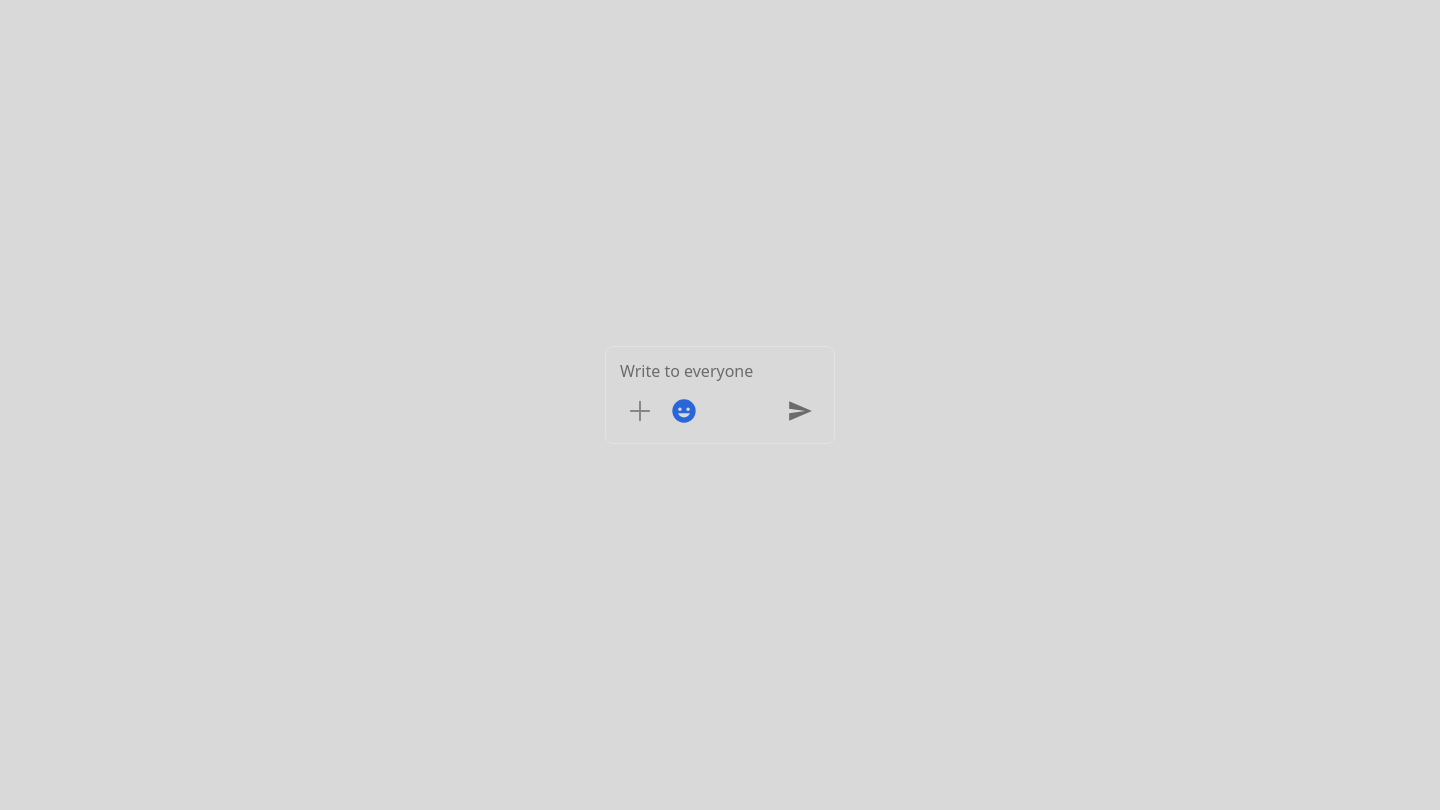
Test case: emoji picker › the picker is keyboard operable and holds a single tab stop
Click the button named "Choose emoji" at [684, 411], box [664,391,704,431]
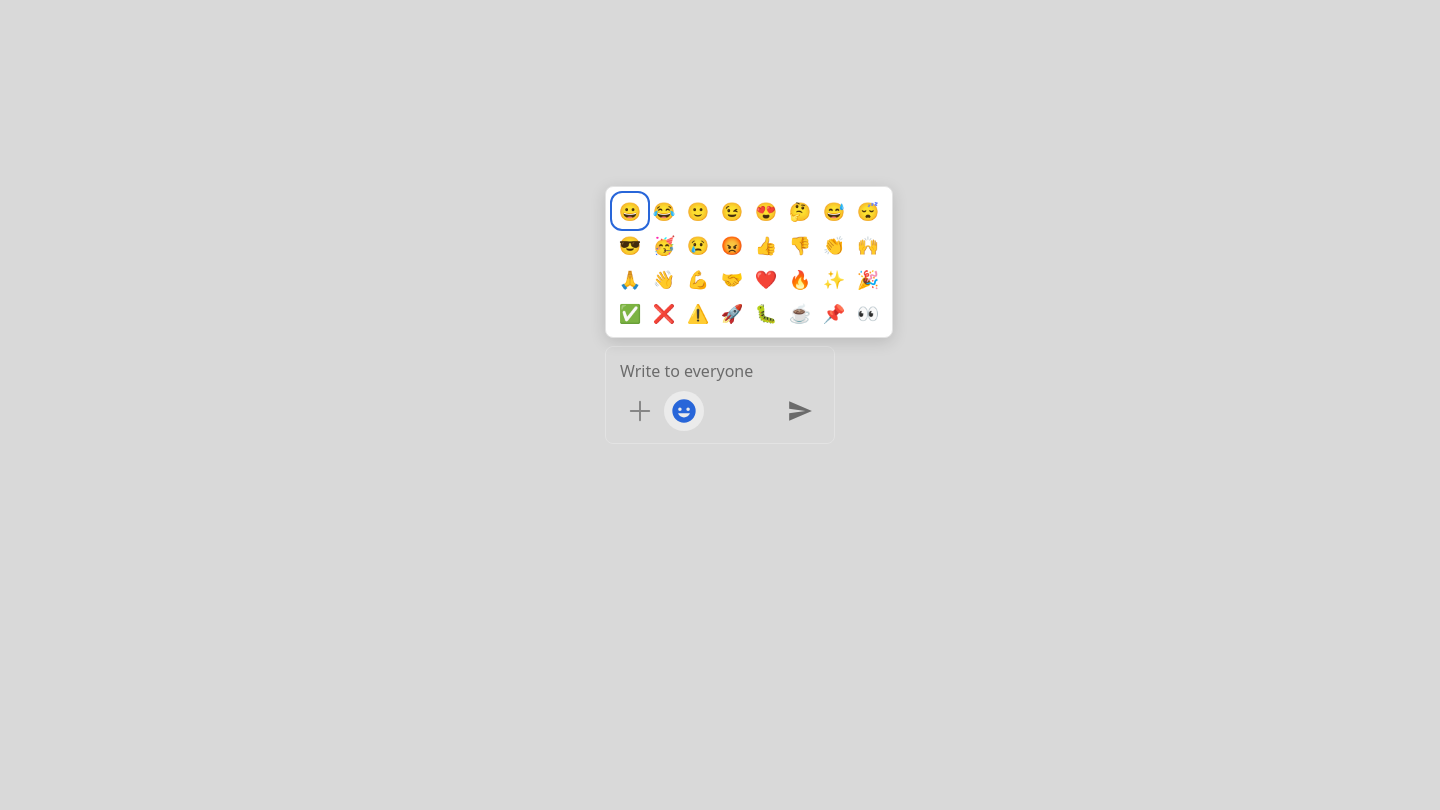
Press Arrowright
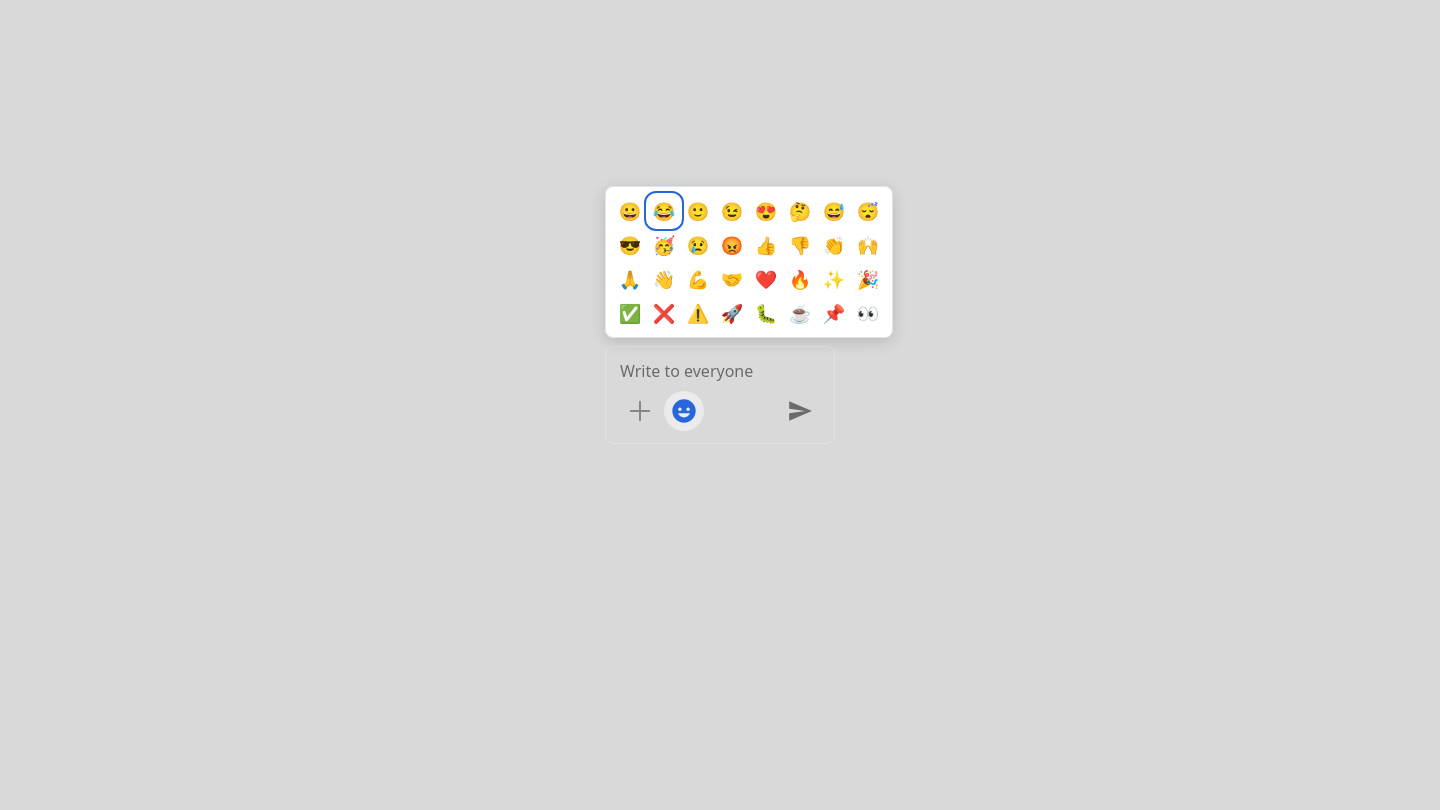
Press Arrowdown
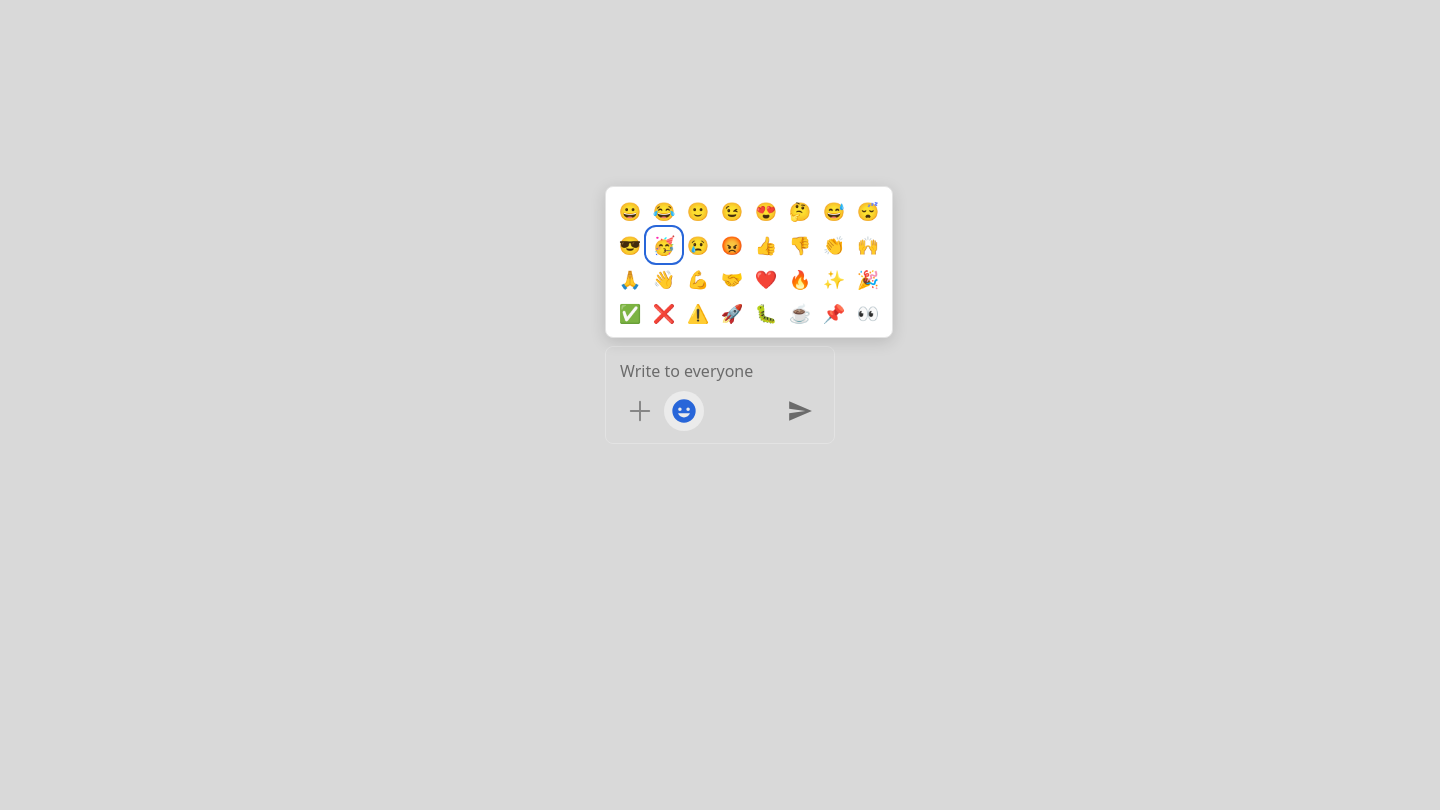
Press Arrowleft
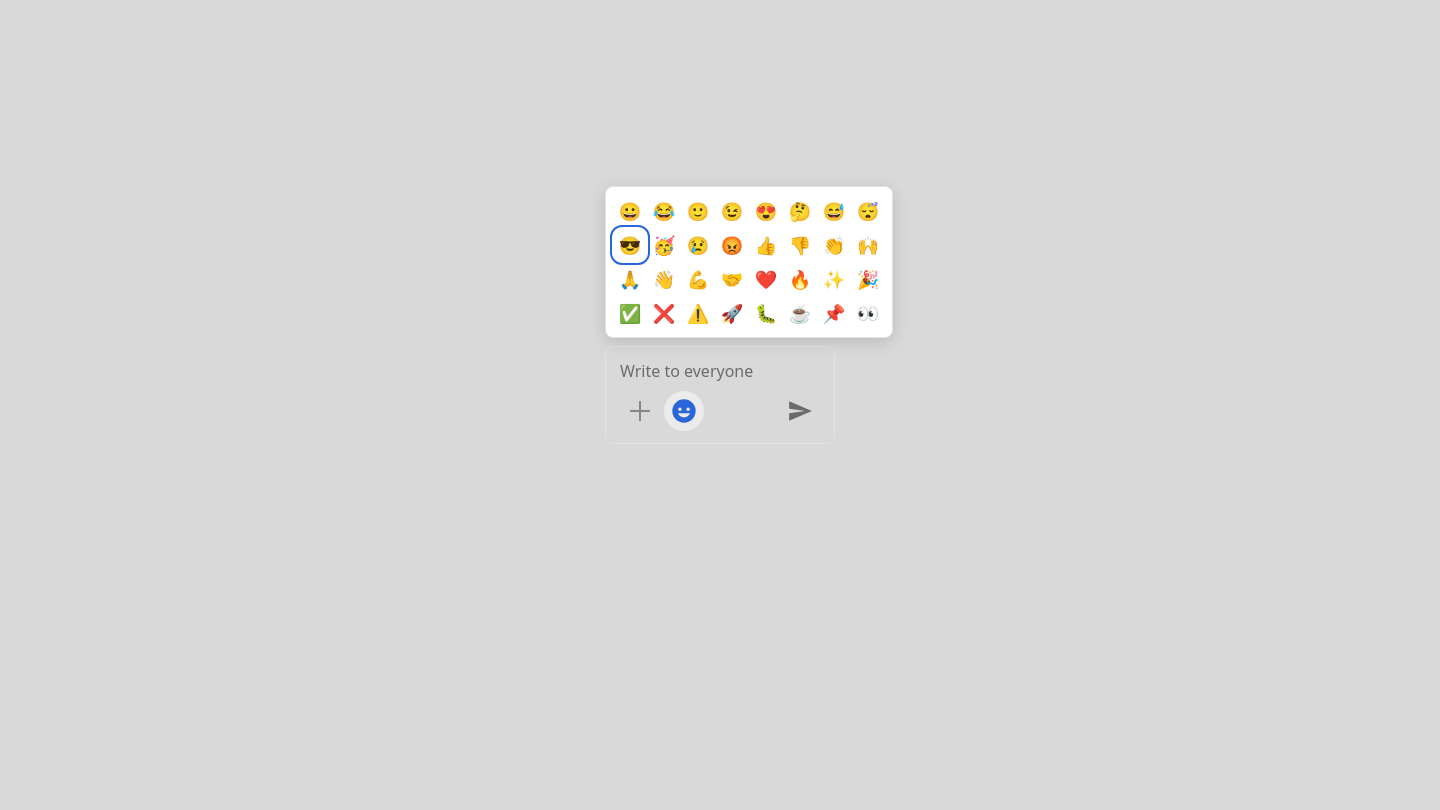
Press Arrowup Arrowright Enter
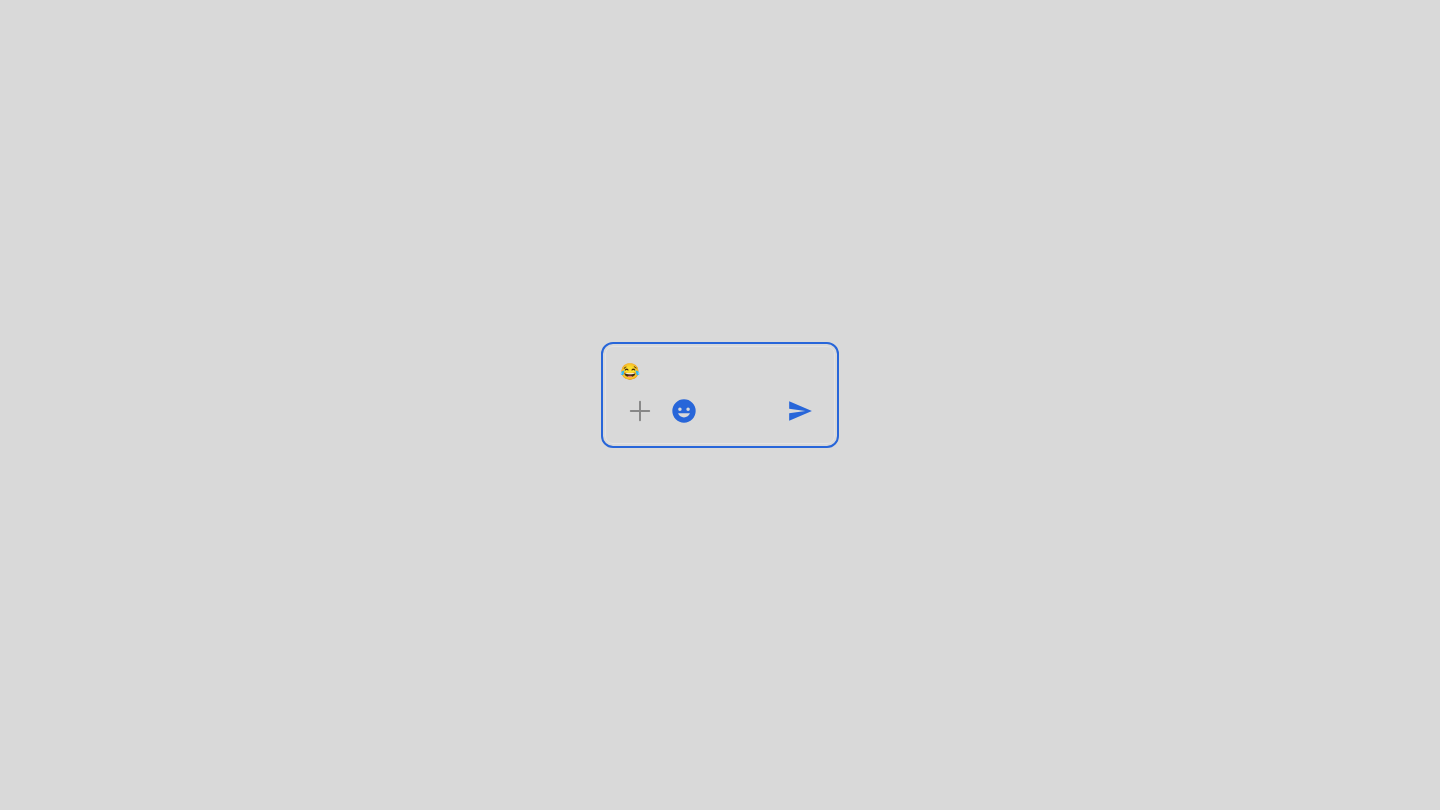
Expected: the text box named "Write to everyone" holds "😂", [620,359,820,383]
